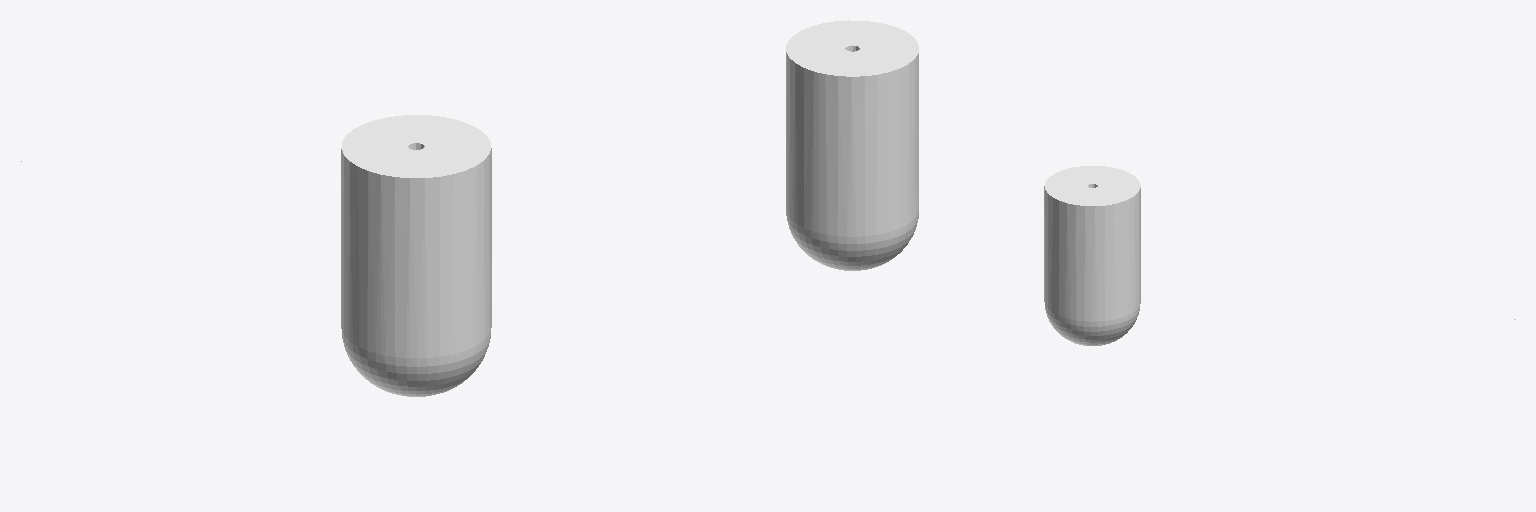
URDF robot description (Assem1):
<?xml version="1.0" encoding="utf-8"?>
<!-- This URDF was automatically created by SolidWorks to URDF Exporter! Originally created by Stephen Brawner (brawner@gmail.com) 
     Commit Version: 1.6.0-4-g7f85cfe  Build Version: 1.6.7995.38578
     For more information, please see http://wiki.ros.org/sw_urdf_exporter -->
<robot
  name="Assem1">
  <link
    name="base_link">
    <inertial>
      <origin
        xyz="-0.2575 0.0887931052101868 -0.25"
        rpy="0 0 0" />
      <mass
        value="6.52284062056442" />
      <inertia
        ixx="0.129247794837995"
        ixy="5.89846224761154E-18"
        ixz="7.13771765758233E-18"
        iyy="0.242543088159904"
        iyz="-1.4987052813312E-17"
        izz="0.116888788263735" />
    </inertial>
    <visual>
      <origin
        xyz="0 0 0"
        rpy="0 0 0" />
      <geometry>
        <mesh
          filename="package://Assem1/meshes/base_link.STL" />
      </geometry>
      <material
        name="">
        <color
          rgba="0.866666666666667 0.909803921568627 1 1" />
      </material>
    </visual>
    <collision>
      <origin
        xyz="0 0 0"
        rpy="0 0 0" />
      <geometry>
        <mesh
          filename="package://Assem1/meshes/base_link.STL" />
      </geometry>
    </collision>
  </link>
  <link
    name="caster_front_right">
    <inertial>
      <origin
        xyz="-0.1625 -0.056877 0.1975"
        rpy="0 0 0" />
      <mass
        value="0.16326" />
      <inertia
        ixx="9.49E-05"
        ixy="1.4267E-37"
        ixz="8.5646E-38"
        iyy="3.9845E-05"
        iyz="3.4074E-22"
        izz="9.49E-05" />
    </inertial>
    <visual>
      <origin
        xyz="0 0 0"
        rpy="0 0 0" />
      <geometry>
        <mesh
          filename="package://Assem1/meshes/caster_front_right.STL" />
      </geometry>
      <material
        name="">
        <color
          rgba="1 1 1 0.5" />
      </material>
    </visual>
    <collision>
      <origin
        xyz="0 0 0"
        rpy="0 0 0" />
      <geometry>
        <mesh
          filename="package://Assem1/meshes/caster_front_right.STL" />
      </geometry>
    </collision>
  </link>
  <joint
    name="caster_front_right_joint"
    type="fixed">
    <origin
      xyz="0.0675 0.25 0.0995"
      rpy="1.5708 0 0" />
    <parent
      link="base_link" />
    <child
      link="caster_front_right" />
    <axis
      xyz="0 0 0" />
  </joint>
  <link
    name="caster_front_left">
    <inertial>
      <origin
        xyz="-0.1625 -0.0568769733769634 0.1975"
        rpy="0 0 0" />
      <mass
        value="0.16326120796064" />
      <inertia
        ixx="9.48999009286939E-05"
        ixy="1.42672356027653E-37"
        ixz="8.56463051456904E-38"
        iyy="3.98448045494631E-05"
        iyz="3.40743779303685E-22"
        izz="9.48999009286939E-05" />
    </inertial>
    <visual>
      <origin
        xyz="0 0 0"
        rpy="0 0 0" />
      <geometry>
        <mesh
          filename="package://Assem1/meshes/caster_front_left.STL" />
      </geometry>
      <material
        name="">
        <color
          rgba="1 1 1 0.5" />
      </material>
    </visual>
    <collision>
      <origin
        xyz="0 0 0"
        rpy="0 0 0" />
      <geometry>
        <mesh
          filename="package://Assem1/meshes/caster_front_left.STL" />
      </geometry>
    </collision>
  </link>
  <joint
    name="caster_front_left_joint"
    type="fixed">
    <origin
      xyz="-0.2575 0.25 0.0995"
      rpy="1.5708 0 0" />
    <parent
      link="base_link" />
    <child
      link="caster_front_left" />
    <axis
      xyz="0 0 0" />
  </joint>
  <link
    name="caster_rear_right">
    <inertial>
      <origin
        xyz="-0.1625 -0.056877 0.1975"
        rpy="0 0 0" />
      <mass
        value="0.16326" />
      <inertia
        ixx="9.49E-05"
        ixy="1.4267E-37"
        ixz="8.5646E-38"
        iyy="3.9845E-05"
        iyz="3.4565E-22"
        izz="9.49E-05" />
    </inertial>
    <visual>
      <origin
        xyz="0 0 0"
        rpy="0 0 0" />
      <geometry>
        <mesh
          filename="package://Assem1/meshes/caster_rear_right.STL" />
      </geometry>
      <material
        name="">
        <color
          rgba="1 1 1 0.5" />
      </material>
    </visual>
    <collision>
      <origin
        xyz="0 0 0"
        rpy="0 0 0" />
      <geometry>
        <mesh
          filename="package://Assem1/meshes/caster_rear_right.STL" />
      </geometry>
    </collision>
  </link>
  <joint
    name="caster_rear_right_joint"
    type="fixed">
    <origin
      xyz="0.0675 0.645 0.0995"
      rpy="1.5708 0 0" />
    <parent
      link="base_link" />
    <child
      link="caster_rear_right" />
    <axis
      xyz="0 0 0" />
  </joint>
  <link
    name="caster_rear_left">
    <inertial>
      <origin
        xyz="-0.1625 -0.056877 0.1975"
        rpy="0 0 0" />
      <mass
        value="0.16326" />
      <inertia
        ixx="9.49E-05"
        ixy="1.4267E-37"
        ixz="8.5646E-38"
        iyy="3.9845E-05"
        iyz="3.4565E-22"
        izz="9.49E-05" />
    </inertial>
    <visual>
      <origin
        xyz="0 0 0"
        rpy="0 0 0" />
      <geometry>
        <mesh
          filename="package://Assem1/meshes/caster_rear_left.STL" />
      </geometry>
      <material
        name="">
        <color
          rgba="1 1 1 0.5" />
      </material>
    </visual>
    <collision>
      <origin
        xyz="0 0 0"
        rpy="0 0 0" />
      <geometry>
        <mesh
          filename="package://Assem1/meshes/caster_rear_left.STL" />
      </geometry>
    </collision>
  </link>
  <joint
    name="caster_rear_left_joint"
    type="fixed">
    <origin
      xyz="-0.2575 0.645 0.0995"
      rpy="1.5708 0 0" />
    <parent
      link="base_link" />
    <child
      link="caster_rear_left" />
    <axis
      xyz="0 0 0" />
  </joint>
  <link
    name="wheel_right">
    <inertial>
      <origin
        xyz="-0.24239 -0.037 0"
        rpy="0 0 0" />
      <mass
        value="0.36992" />
      <inertia
        ixx="0.00071924"
        ixy="-7.5132E-22"
        ixz="8.5928E-21"
        iyy="0.00038791"
        iyz="-1.3553E-20"
        izz="0.00038791" />
    </inertial>
    <visual>
      <origin
        xyz="0 0 0"
        rpy="0 0 0" />
      <geometry>
        <mesh
          filename="package://Assem1/meshes/wheel_right.STL" />
      </geometry>
      <material
        name="">
        <color
          rgba="0.29804 0.29804 0.29804 1" />
      </material>
    </visual>
    <collision>
      <origin
        xyz="0 0 0"
        rpy="0 0 0" />
      <geometry>
        <mesh
          filename="package://Assem1/meshes/wheel_right.STL" />
      </geometry>
    </collision>
  </link>
  <joint
    name="wheel_right_joint"
    type="continuous">
    <origin
      xyz="-0.2575 0.28219 0.044263"
      rpy="-2.6262 0 3.1416" />
    <parent
      link="base_link" />
    <child
      link="wheel_right" />
    <axis
      xyz="1 0 0" />
  </joint>
  <link
    name="wheel_left">
    <inertial>
      <origin
        xyz="0 0 0"
        rpy="0 0 0" />
      <mass
        value="0" />
      <inertia
        ixx="0"
        ixy="0"
        ixz="0"
        iyy="0"
        iyz="0"
        izz="0" />
    </inertial>
    <visual>
      <origin
        xyz="0 0 0"
        rpy="0 0 0" />
      <geometry>
        <mesh
          filename="package://Assem1/meshes/wheel_left.STL" />
      </geometry>
      <material
        name="">
        <color
          rgba="1 1 1 1" />
      </material>
    </visual>
    <collision>
      <origin
        xyz="0 0 0"
        rpy="0 0 0" />
      <geometry>
        <mesh
          filename="package://Assem1/meshes/wheel_left.STL" />
      </geometry>
    </collision>
  </link>
  <joint
    name="wheel_left_joint"
    type="continuous">
    <origin
      xyz="-0.2575 0.25 0.0995"
      rpy="1.5708 0 0" />
    <parent
      link="base_link" />
    <child
      link="wheel_left" />
    <axis
      xyz="1 0 0" />
  </joint>
</robot>

--- Render facts (derived) ---
3 views of the same robot in one strip: view 1: azimuth 30°, elevation 25°; view 2: azimuth 150°, elevation 25°; view 3: azimuth 270°, elevation 25° (orthographic).
Model Assem1 with 7 links and 6 joints (2 continuous, 4 fixed), rooted at base_link, posed all joints at 0.
Visible links, largest first — view 1: caster_front_left; view 2: caster_front_left; view 3: caster_front_left.
Boxes of the visible links, <box> form: caster_front_left: <box>341,115,491,396</box>; caster_front_left: <box>786,20,918,270</box>; caster_front_left: <box>1044,166,1140,345</box>.
Size in the robot's own frame: 45.24 by 220 by 79.6 metres.
5 mesh visuals loaded from 7 distinct referenced files (5 binary STL); not drawn: 2 (reference not matched to a file when rendering).
